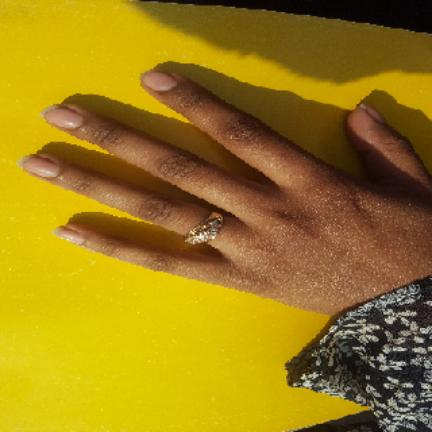Nail: (40, 105, 83, 129), (18, 154, 60, 178), (141, 71, 177, 91), (52, 226, 85, 246), (360, 101, 388, 122)
